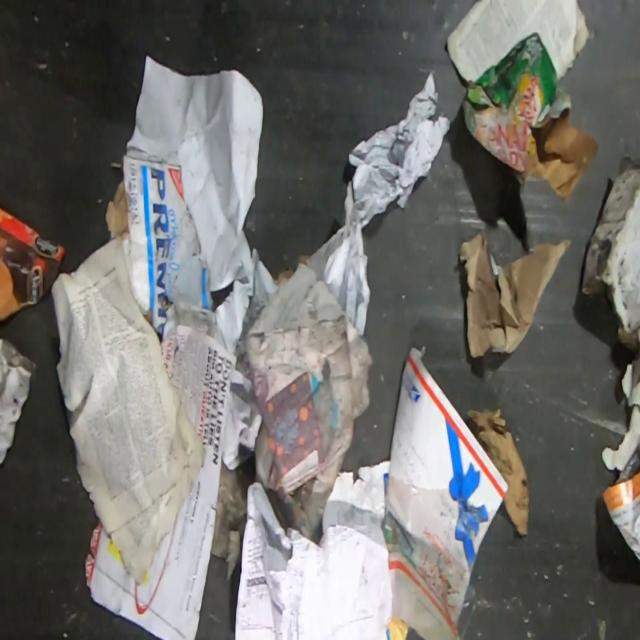cardboard: (382, 344, 510, 640), (464, 30, 602, 204), (104, 155, 214, 336), (466, 404, 530, 536), (0, 204, 66, 324)
